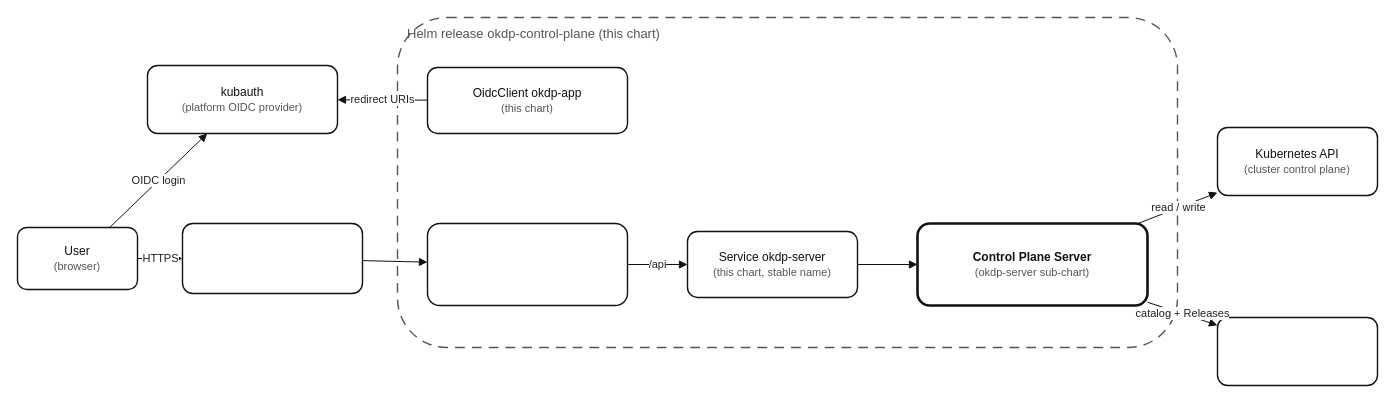
This 1396x404 diagram has some shape labels left out. Here are the shapes that lost their labels. From the top down, the centre of each, then its label:
the point at 272,258: Ingress (nginx, TLS by cert-manager)
the point at 527,264: OKDP Console (okdp-ui sub-chart)
the point at 1297,351: KuboCD (GitOps engine)
